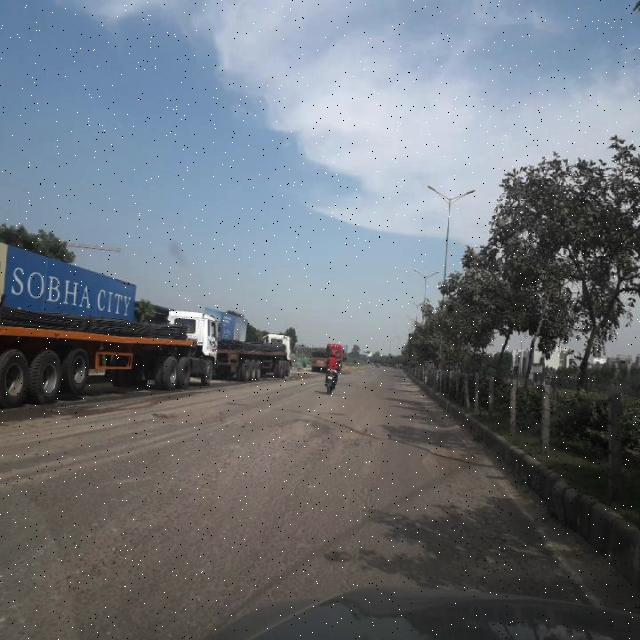D20: (6, 468, 372, 639)
D40: (408, 412, 565, 588), (268, 402, 394, 450), (148, 404, 238, 426)
